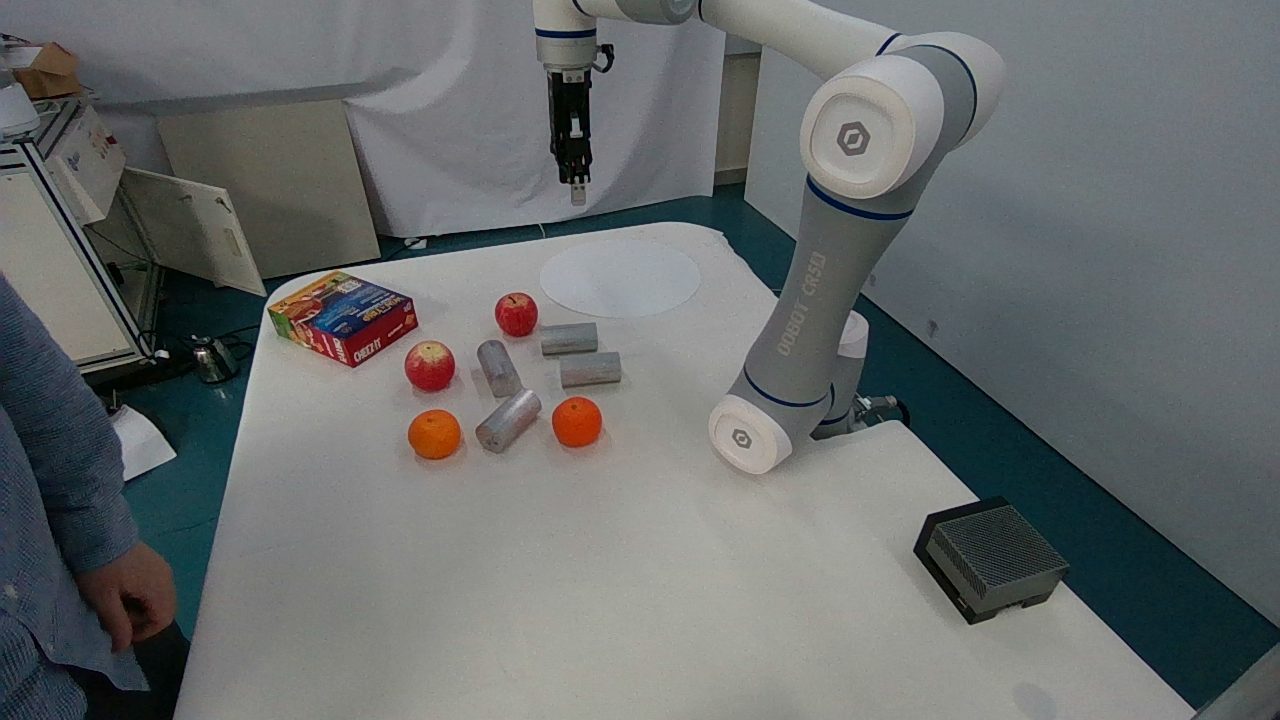apple: (398, 327, 458, 396), (484, 273, 541, 342)
metal rod: (472, 374, 546, 458), (467, 324, 541, 399), (544, 346, 632, 397), (521, 312, 613, 360)
orange: (394, 399, 468, 479), (541, 383, 612, 458)
